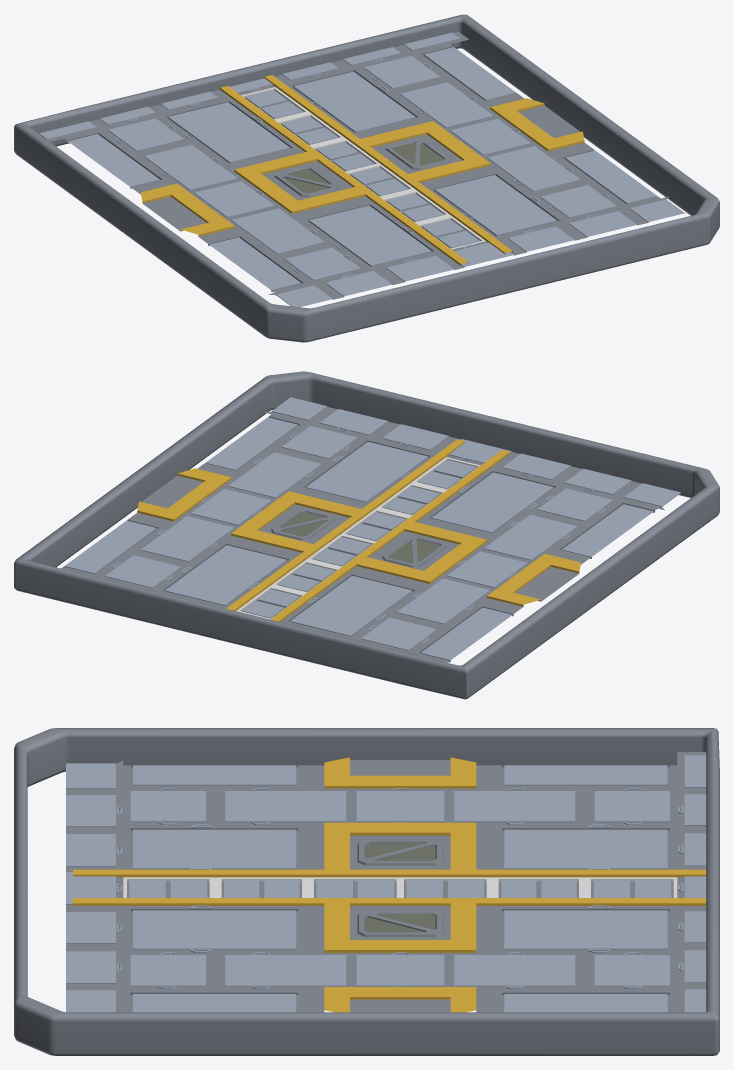
The model's file is Level29_Ground_.fbx.
3 renders of one model, top to bottom at view 1: azimuth 30°, elevation 25°; view 2: azimuth 150°, elevation 25°; view 3: azimuth 270°, elevation 25°, orthographic. The views are drawn at different scales.
Parts seen in each view (by area): view 1: Ground, Border, Ground4, Ground5, pCube100 (×8), pCube87 (×2), pPlane1 (×2); view 2: Ground, Border, Ground4, Ground5, pCube100 (×4), pCube87 (×2), pPlane1 (×2); view 3: Ground, Border, Ground5, Ground4, pCube100 (×8), pCube87 (×2), pPlane1 (×2).
Part boxes in pixels (x1=…): Ground: x1=129, y1=60, x2=595, y2=276; Border: x1=14, y1=14, x2=719, y2=342; Ground4: x1=64, y1=122, x2=339, y2=292; Ground5: x1=385, y1=44, x2=660, y2=214; pCube100 (×8): x1=39, y1=31, x2=685, y2=307; pCube87 (×2): x1=274, y1=138, x2=450, y2=197; pPlane1 (×2): x1=283, y1=142, x2=444, y2=193; Ground: x1=126, y1=430, x2=592, y2=646; Border: x1=14, y1=371, x2=719, y2=699; Ground4: x1=382, y1=493, x2=657, y2=662; Ground5: x1=61, y1=414, x2=336, y2=584; pCube100 (×4): x1=264, y1=397, x2=680, y2=510; pCube87 (×2): x1=271, y1=508, x2=446, y2=567; pPlane1 (×2): x1=280, y1=512, x2=440, y2=562; Ground: x1=73, y1=806, x2=706, y2=971; Border: x1=14, y1=728, x2=719, y2=1055; Ground5: x1=123, y1=970, x2=677, y2=1012; Ground4: x1=123, y1=757, x2=677, y2=806; pCube100 (×8): x1=66, y1=752, x2=706, y2=1012; pCube87 (×2): x1=357, y1=839, x2=443, y2=936; pPlane1 (×2): x1=365, y1=843, x2=435, y2=932.
Bounding box in the file's own units: 561 × 36.61 × 575.
